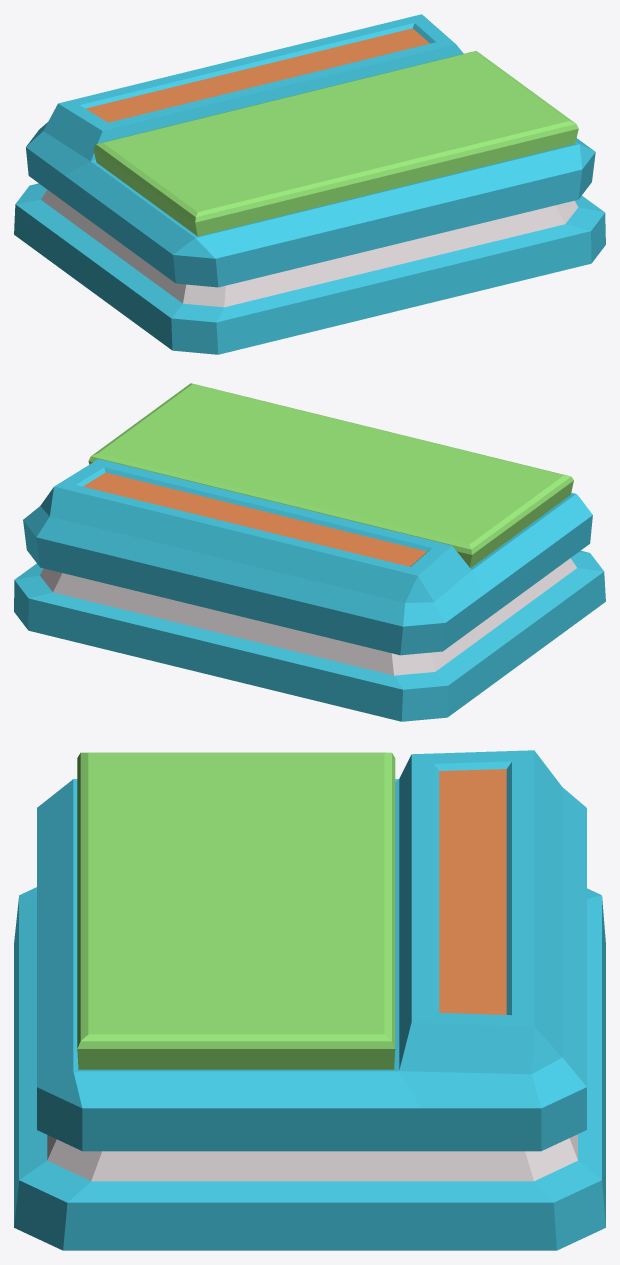
The model's file is Bed.fbx.
3 views of the same model, one above another, from view 1: azimuth 30°, elevation 25°; view 2: azimuth 150°, elevation 25°; view 3: azimuth 270°, elevation 25° (orthographic). The views are drawn at different scales.
Visible parts, largest first — view 1: Bed; view 2: Bed; view 3: Bed.
Part boxes in pixels (<box>): Bed: <box>14,14,605,354</box>; Bed: <box>14,383,605,721</box>; Bed: <box>14,750,605,1250</box>.
Bounding box in the file's own units: 213 × 60.04 × 161.
